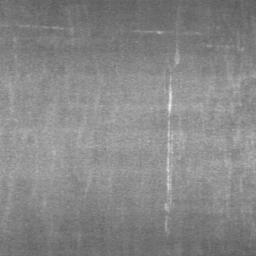Bright scratch: (165, 78, 172, 236)
